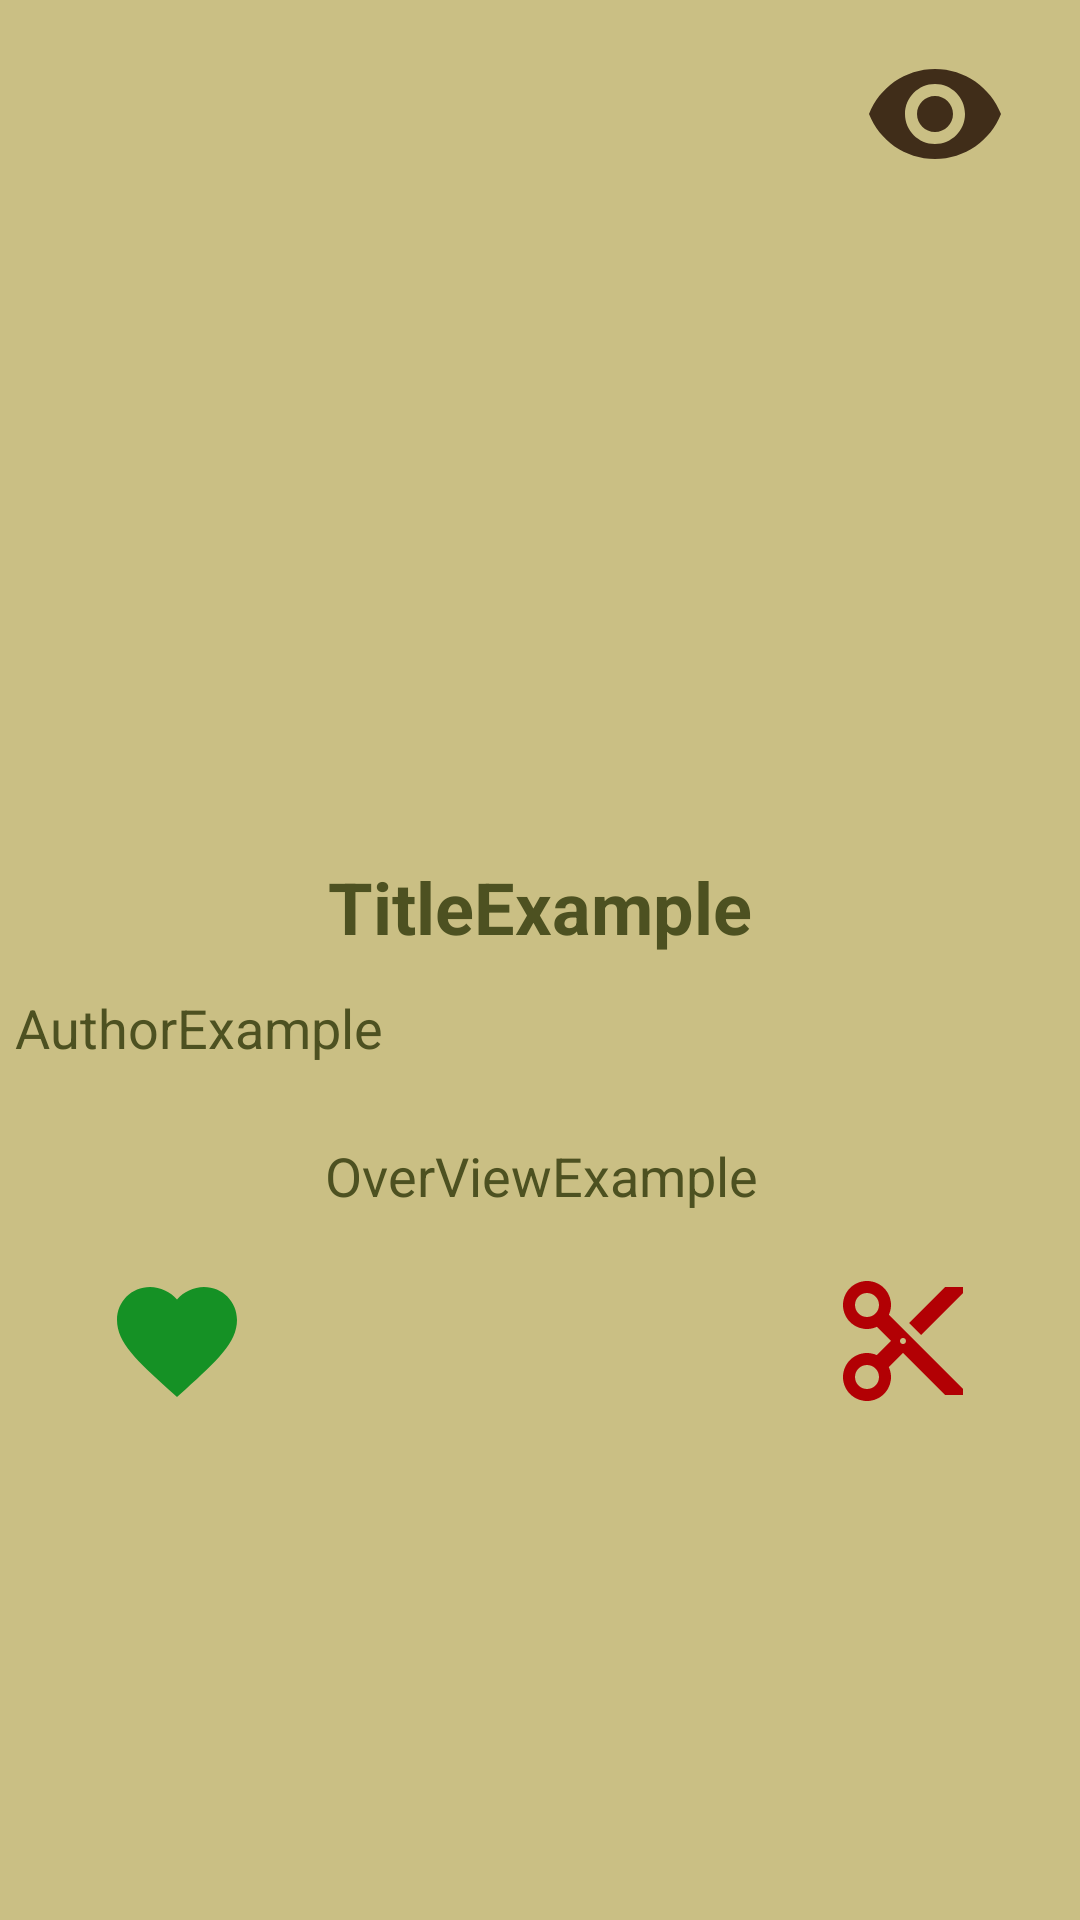

Where icons sit on this 1080w x 1920h app screen, as bbox=(x1, y1, x2, y2):
content cut: bbox=(843, 1281, 963, 1401)
favorite: bbox=(117, 1287, 237, 1397)
